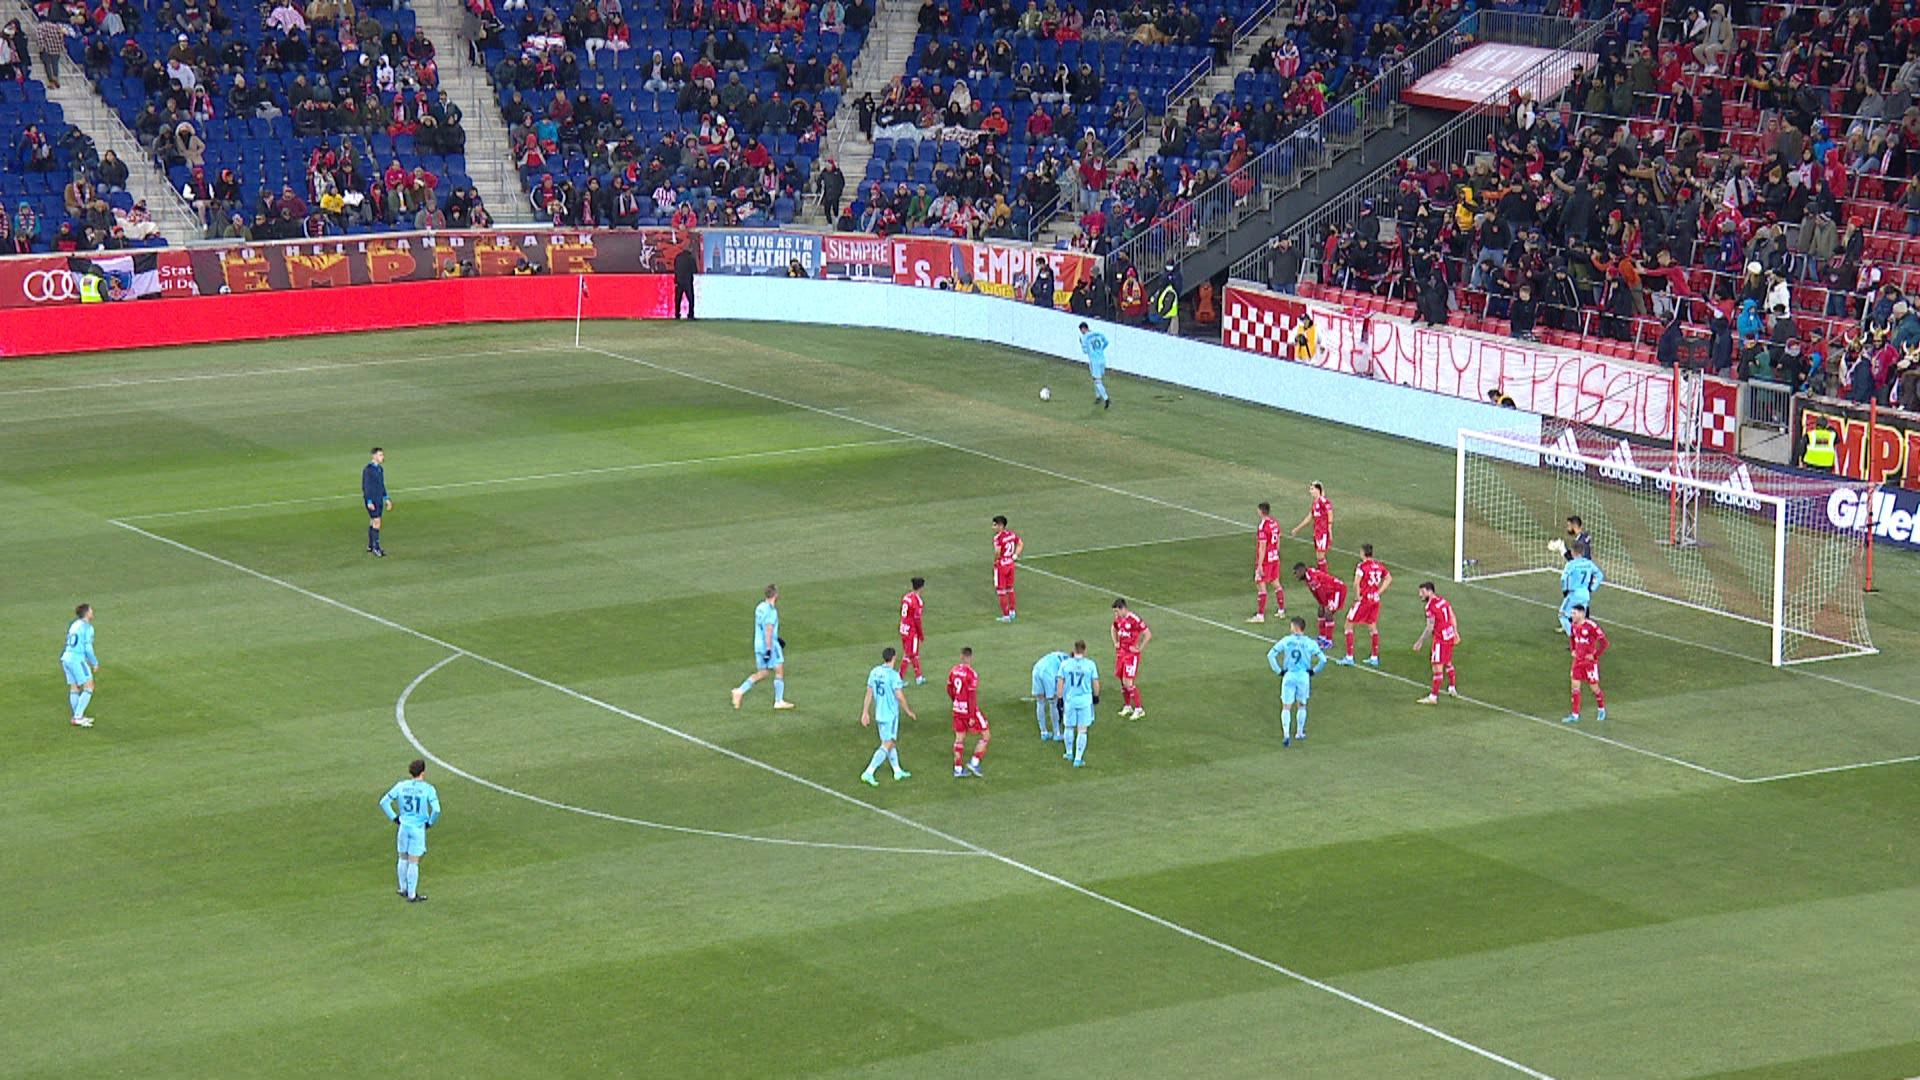football: (1039, 388, 1052, 402)
